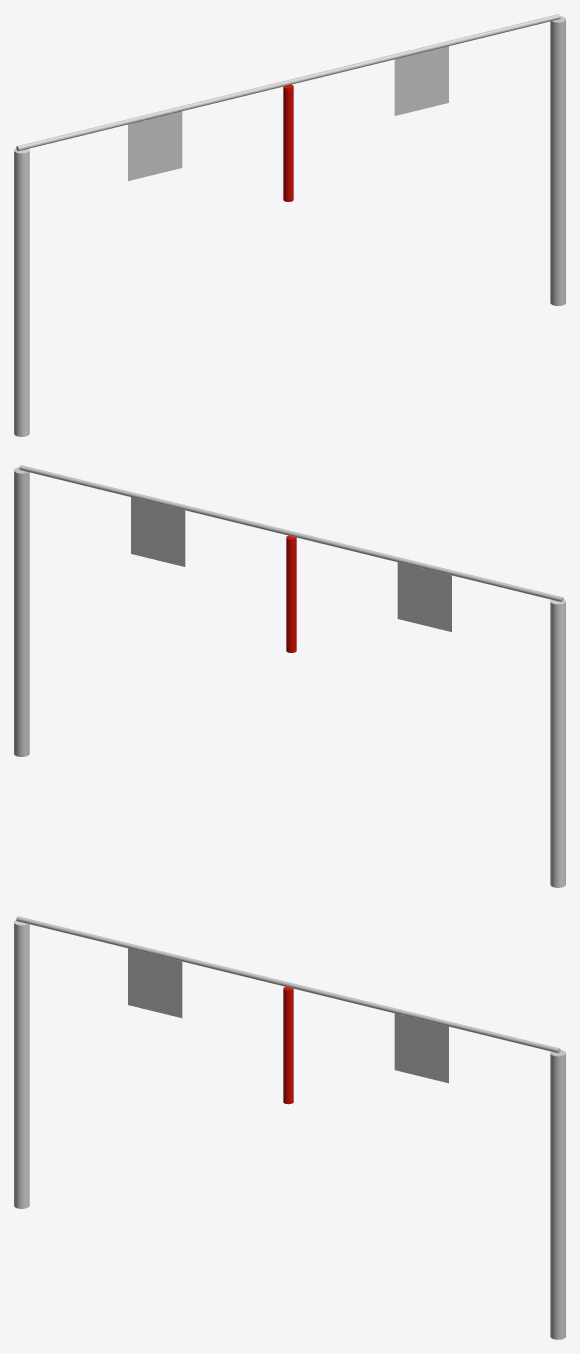
The model's file is task1model.dae.
3 renders of one model, top to bottom at view 1: azimuth 30°, elevation 25°; view 2: azimuth 150°, elevation 25°; view 3: azimuth 330°, elevation 25°, orthographic.
Visible parts, largest first — view 1: Cylinder, Cylinder.001, Cylinder.002, Cube.001, Cube, Cylinder.003; view 2: Cylinder, Cylinder.001, Cylinder.002, Cube.001, Cube, Cylinder.003; view 3: Cylinder.001, Cylinder, Cylinder.002, Cube.001, Cube, Cylinder.003.
Part boxes in pixels (box(x1,y1,x2,y2)): Cylinder: box(14, 148, 29, 436); Cylinder.001: box(550, 16, 565, 305); Cylinder.002: box(16, 14, 560, 151); Cube.001: box(394, 46, 448, 115); Cube: box(128, 111, 182, 180); Cylinder.003: box(283, 84, 293, 201); Cylinder: box(550, 599, 565, 887); Cylinder.001: box(14, 467, 29, 756); Cylinder.002: box(19, 465, 563, 602); Cube.001: box(131, 497, 185, 566); Cube: box(397, 562, 451, 631); Cylinder.003: box(286, 535, 296, 652); Cylinder.001: box(550, 1050, 565, 1339); Cylinder: box(14, 920, 29, 1208); Cylinder.002: box(16, 916, 560, 1053); Cube.001: box(394, 1013, 448, 1083); Cube: box(128, 948, 182, 1017); Cylinder.003: box(283, 987, 293, 1104).
Bounding box in the file's own units: 3.09 × 0.0762 × 1.55.
